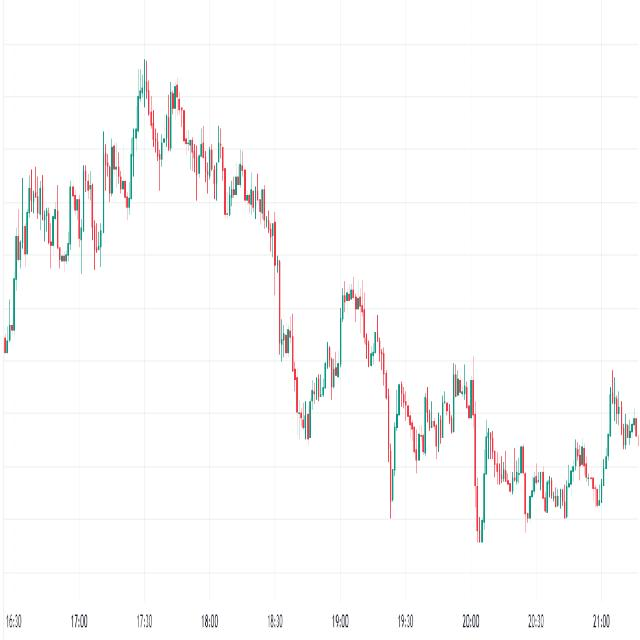Inverse-Head-Shoulders: (275, 256, 346, 452)
